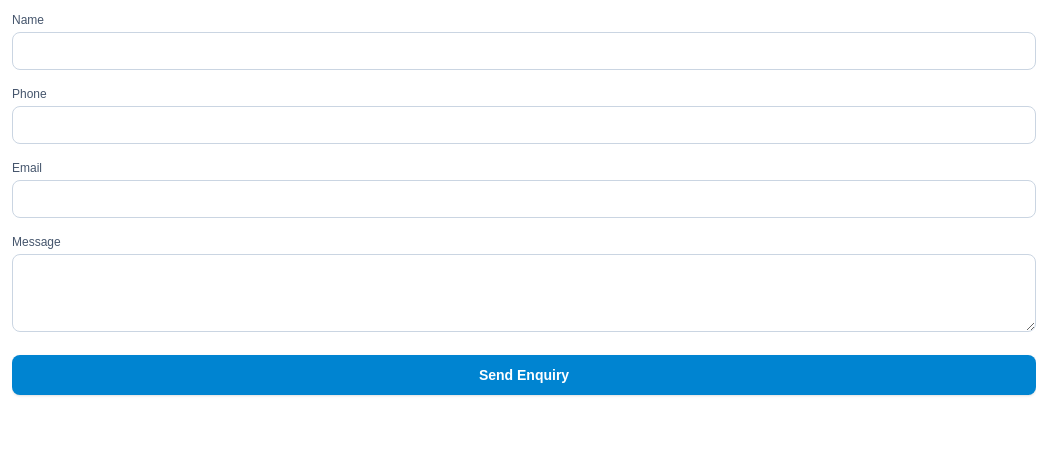
Test case: EnquiryForm › shows the server-provided error message and keeps the form visible on failure
Type "Jane Doe" into the field below "Name" at (524, 51), box [12,32,1036,70]
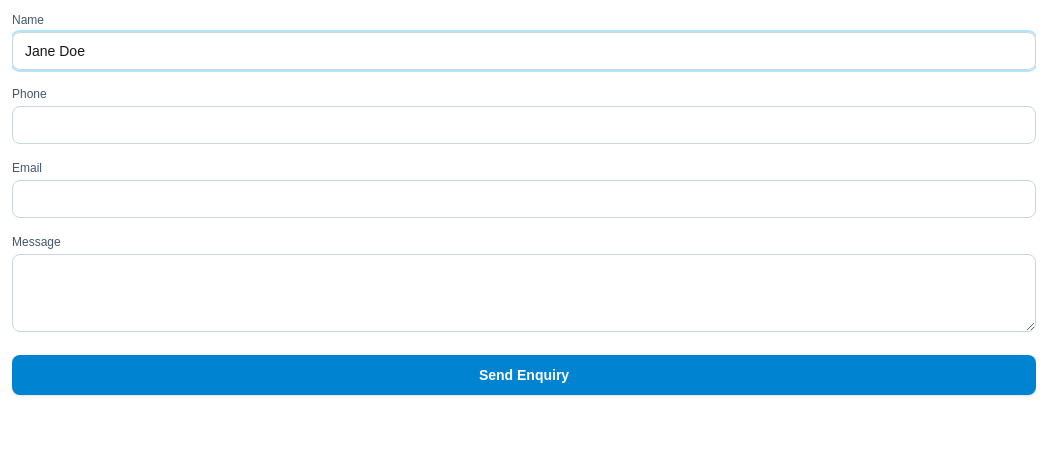
Type "9845059388" into the field below "Phone" at (524, 125), box [12,106,1036,144]
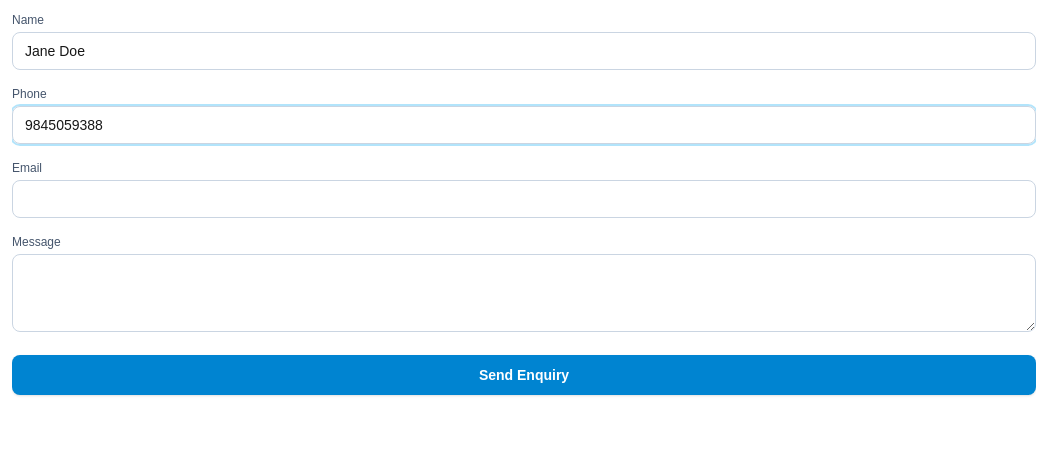
Click the button "Send Enquiry" at (524, 375), box [12,355,1036,395]
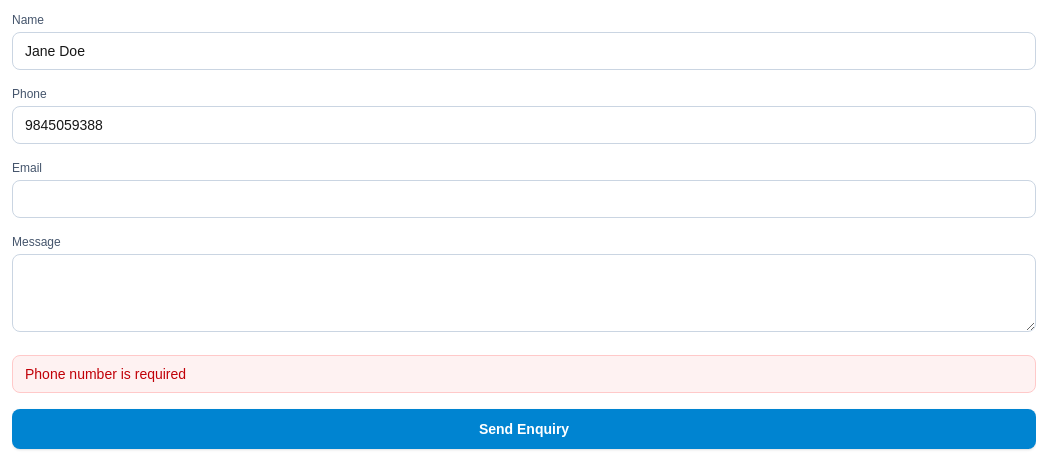
Expected: the button "Send Enquiry" is shown, [12,409,1036,449]
Result: the text "Phone number is required" is shown at [12,355,1036,393]
